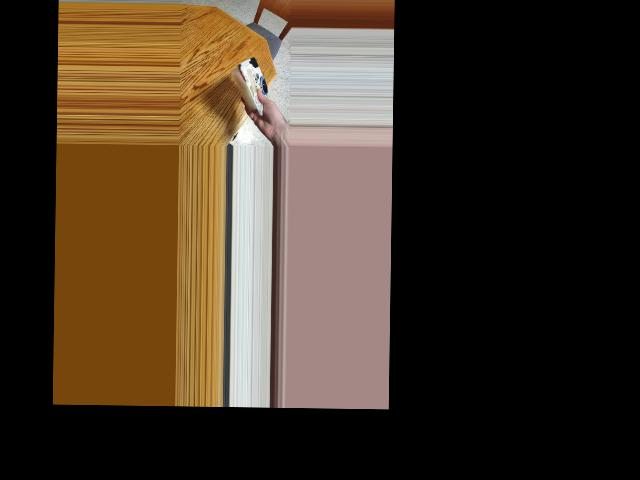cheese: (232, 59, 277, 107)
